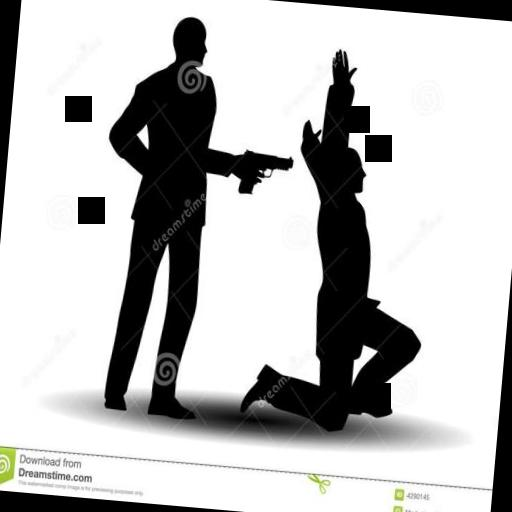Handgun: (236, 147, 294, 197)
